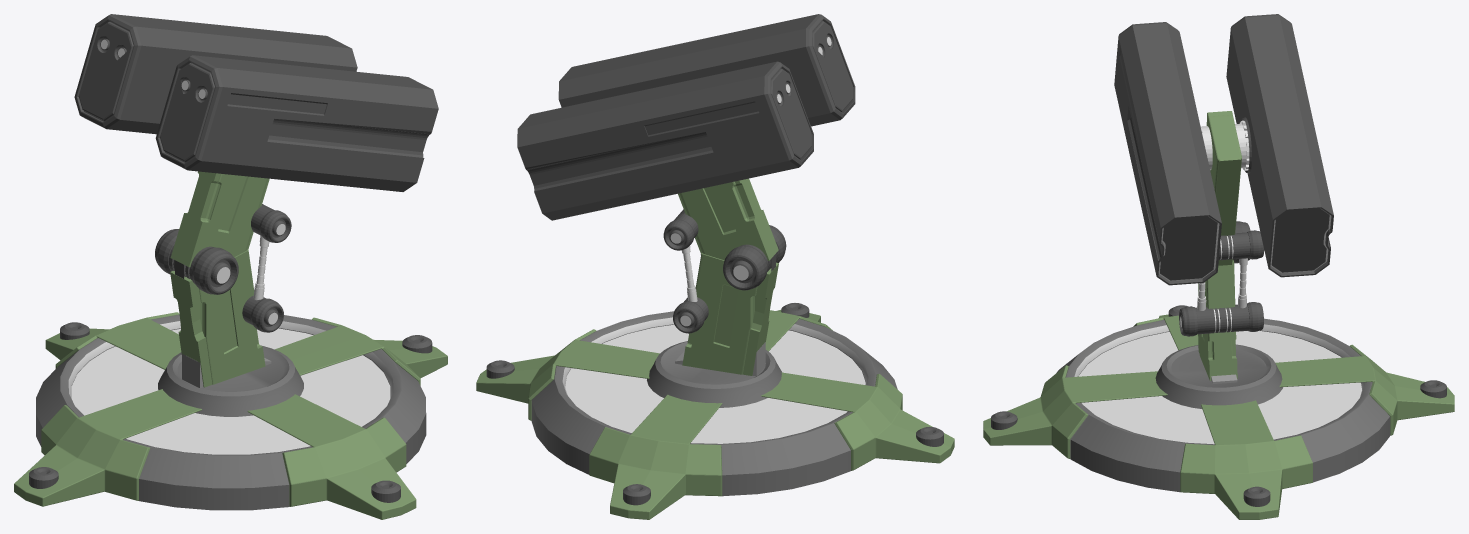
Rendered from scifiturret.fbx.
3 renders of one model, left to right at view 1: azimuth 30°, elevation 25°; view 2: azimuth 150°, elevation 25°; view 3: azimuth 270°, elevation 25°, orthographic. The views are drawn at different scales.
Visible parts, largest first — view 1: PUSHKA, MAIN3, MAIN2, OSNOVA1, OSNOVA2, MAINKRUG, BOLT1, MAINBOLT, BOLT2, BOLT3, NOJKA, PRUZHINA; view 2: PUSHKA, MAIN2, MAIN3, OSNOVA1, OSNOVA2, MAINKRUG, BOLT1, MAINBOLT, BOLT3, BOLT2; view 3: PUSHKA, MAIN2, MAIN3, MAINKRUG, OSNOVA2, OSNOVA1, BOLT2, MAINBOLT, BOLT3, BOLTPUSHKA.
Part boxes in pixels (x1,y1,x2,y2): PUSHKA: (74, 14, 438, 191); MAIN3: (14, 312, 447, 519); MAIN2: (36, 314, 426, 510); OSNOVA1: (170, 249, 265, 387); OSNOVA2: (170, 171, 269, 267); MAINKRUG: (158, 345, 303, 416); BOLT1: (155, 229, 238, 294); MAINBOLT: (29, 322, 432, 502); BOLT2: (242, 295, 283, 332); BOLT3: (251, 204, 291, 242); NOJKA: (182, 354, 271, 388); PRUZHINA: (253, 235, 269, 300); PUSHKA: (517, 14, 855, 220); MAIN2: (531, 311, 897, 496); MAIN3: (476, 310, 954, 519); OSNOVA1: (682, 253, 778, 375); OSNOVA2: (678, 178, 778, 260); MAINKRUG: (647, 341, 782, 407); BOLT1: (723, 225, 786, 290); MAINBOLT: (486, 303, 943, 505); BOLT3: (663, 209, 698, 250); BOLT2: (673, 297, 708, 333); PUSHKA: (1114, 14, 1333, 285); MAIN2: (1056, 318, 1390, 492); MAIN3: (983, 314, 1454, 519); MAINKRUG: (1155, 344, 1283, 408); OSNOVA2: (1206, 111, 1241, 265); OSNOVA1: (1198, 260, 1237, 380); BOLT2: (1179, 302, 1263, 336); MAINBOLT: (991, 305, 1446, 506); BOLT3: (1219, 230, 1264, 260); BOLTPUSHKA: (1200, 120, 1249, 170).
Size of the model in its own units: 228 by 196 by 228.
